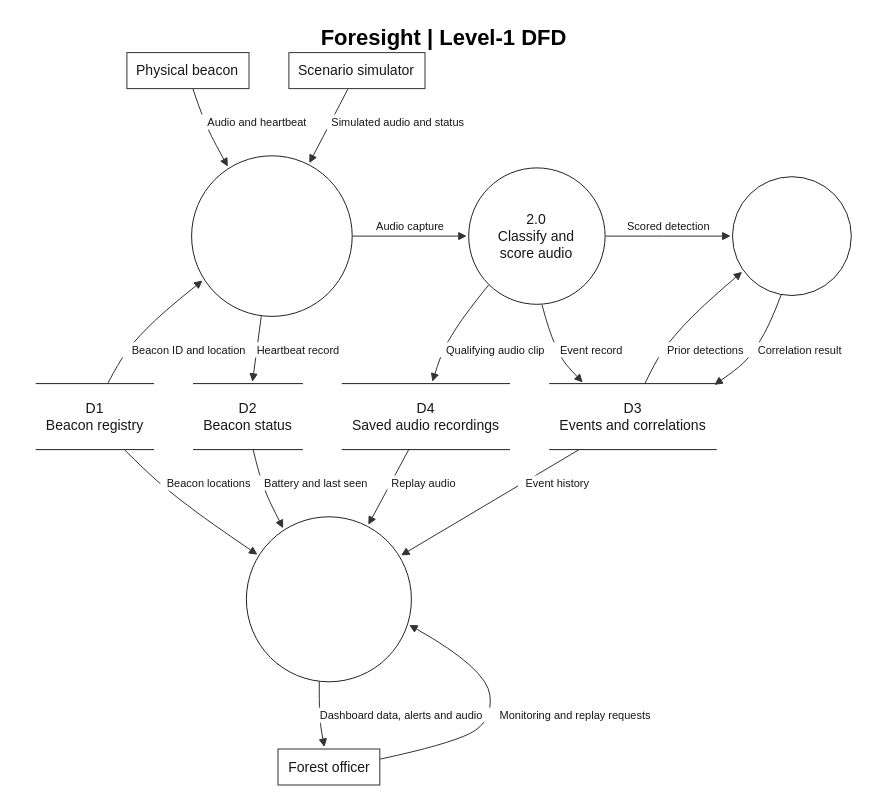
Some shapes in this 887 by 802 pixel diagram are drawn without their labels. Here are the shapes that lost their labels. From the top down, the box of each, then its label:
(191, 155, 352, 316): 1.0 Receive audio and heartbeats
(732, 176, 851, 296): 3.0 Correlate detections
(245, 516, 411, 682): 4.0 Serve monitoring data
